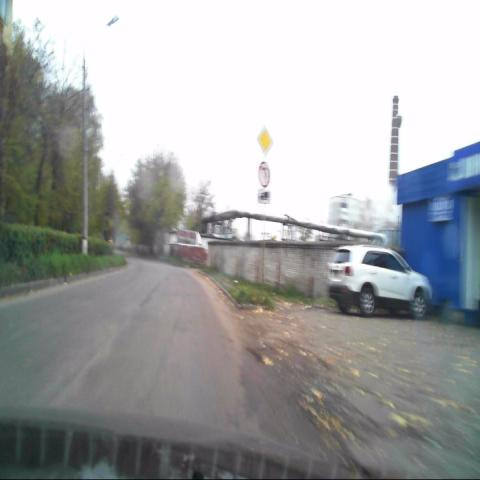3_18_2: (259, 161, 270, 187)
